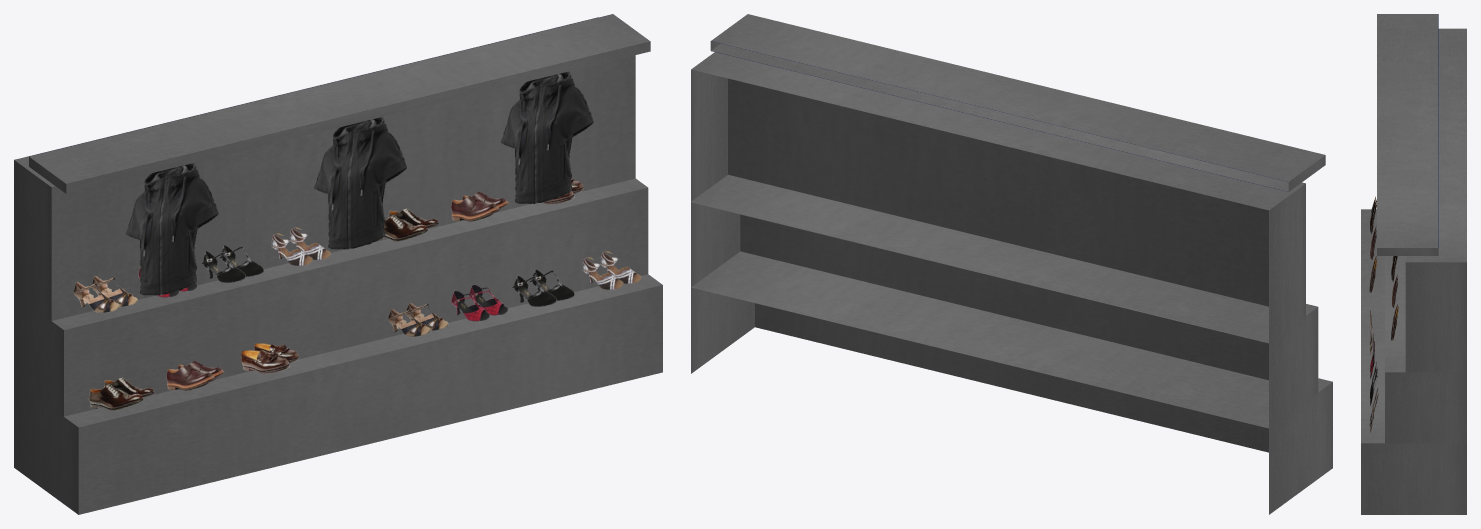
The picture shows the model from 3 angles, left to right: view 1: azimuth 30°, elevation 25°; view 2: azimuth 150°, elevation 25°; view 3: azimuth 270°, elevation 25°; orthographic projection. The views are drawn at different scales.
Visible parts, largest first — view 1: sd_01; view 2: sd_01; view 3: sd_01.
Part boxes in pixels (box(x1,y1,x2,y2)): sd_01: box(14, 14, 662, 514); sd_01: box(691, 14, 1332, 514); sd_01: box(1361, 14, 1466, 514).
Bounding box in the file's own units: 18.65 × 3.56 × 9.85.
Materials: 1 (1 with a texture image).
